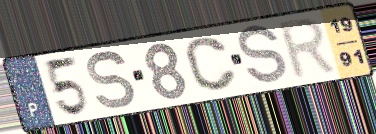5: (39, 54, 90, 118)
8: (143, 41, 189, 101)
C: (183, 36, 240, 94)
R: (277, 15, 342, 84)
S: (236, 22, 289, 88), (85, 49, 138, 111)
